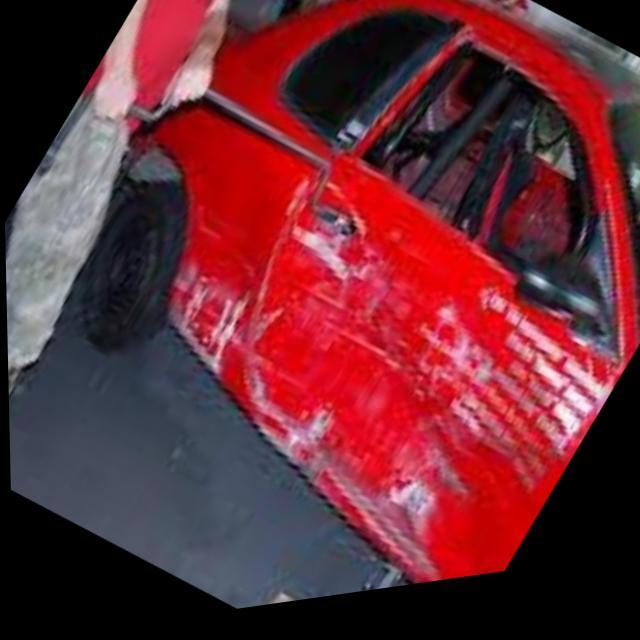dent: (165, 161, 622, 594)
